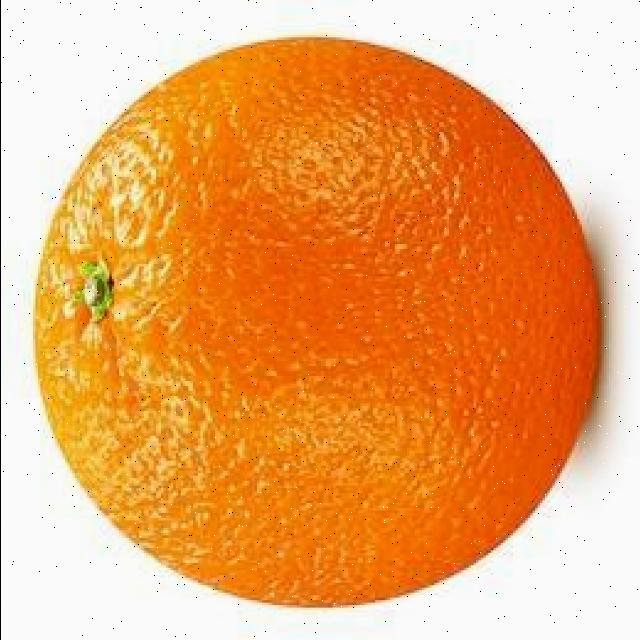Ripe: (26, 35, 602, 611)
